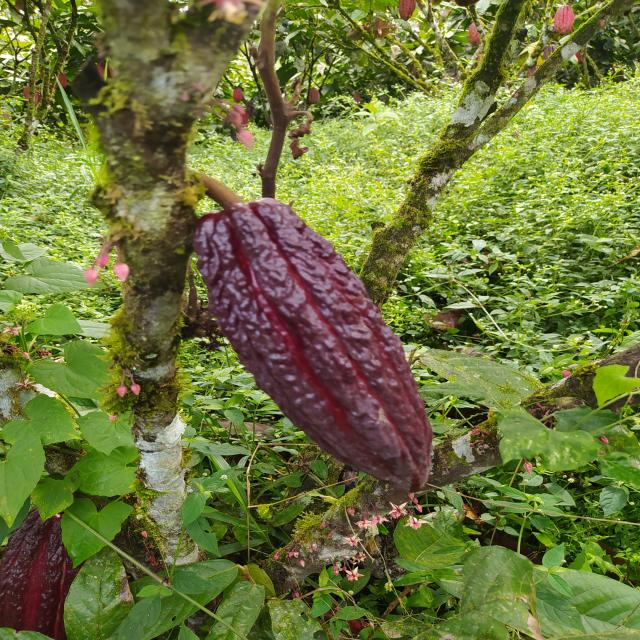Sana: (192, 197, 434, 495), (0, 506, 82, 640), (554, 4, 574, 36)
